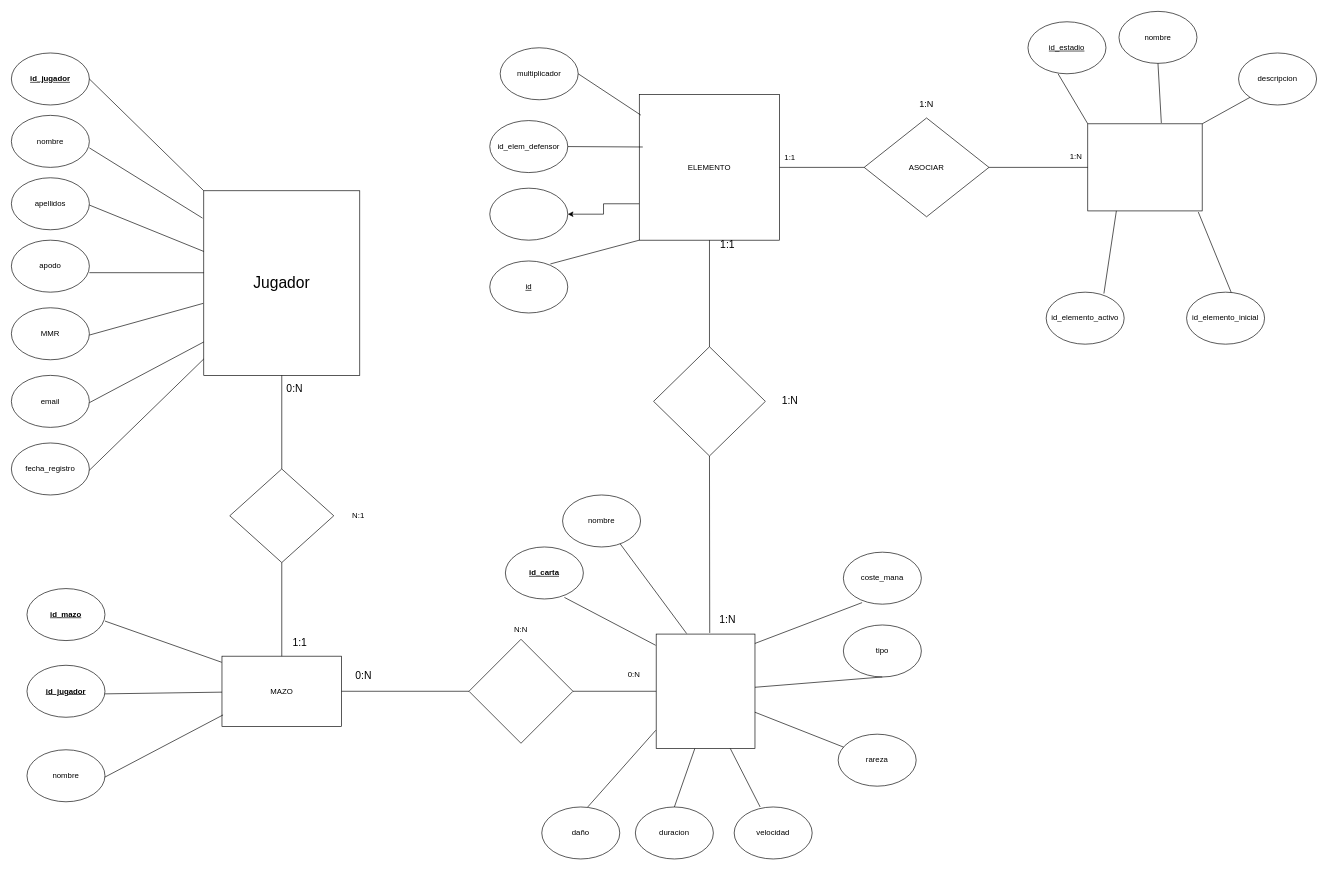
Image size: 1328x870. Some labels were removed from this diagram. The centre of each missing label's shape, as x and y in pixels:
"CARTA" belongs at (x=705, y=690).
"ESTADIO" belongs at (x=1144, y=167).
"id_elem_atacante" belongs at (x=528, y=214).
"pertenecer" belongs at (x=709, y=401).
"Poseer/Crear" belongs at (x=281, y=515).
"Tener/Inventario" belongs at (x=520, y=691).
